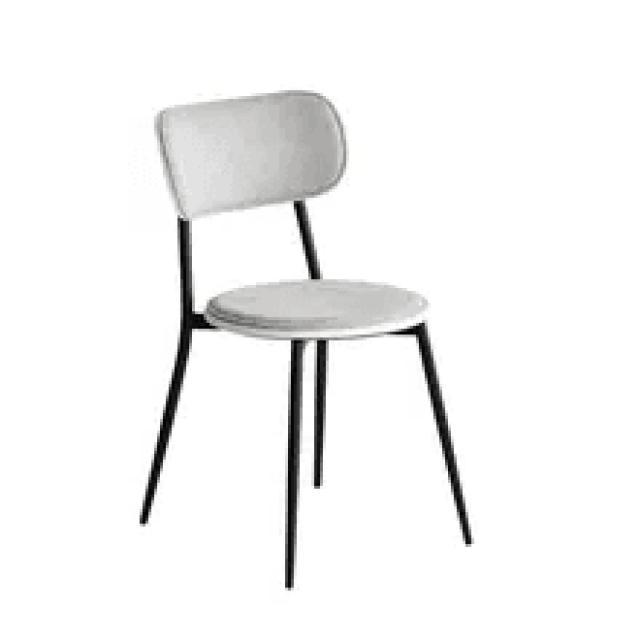chair: (133, 83, 477, 588), (155, 89, 432, 338)
